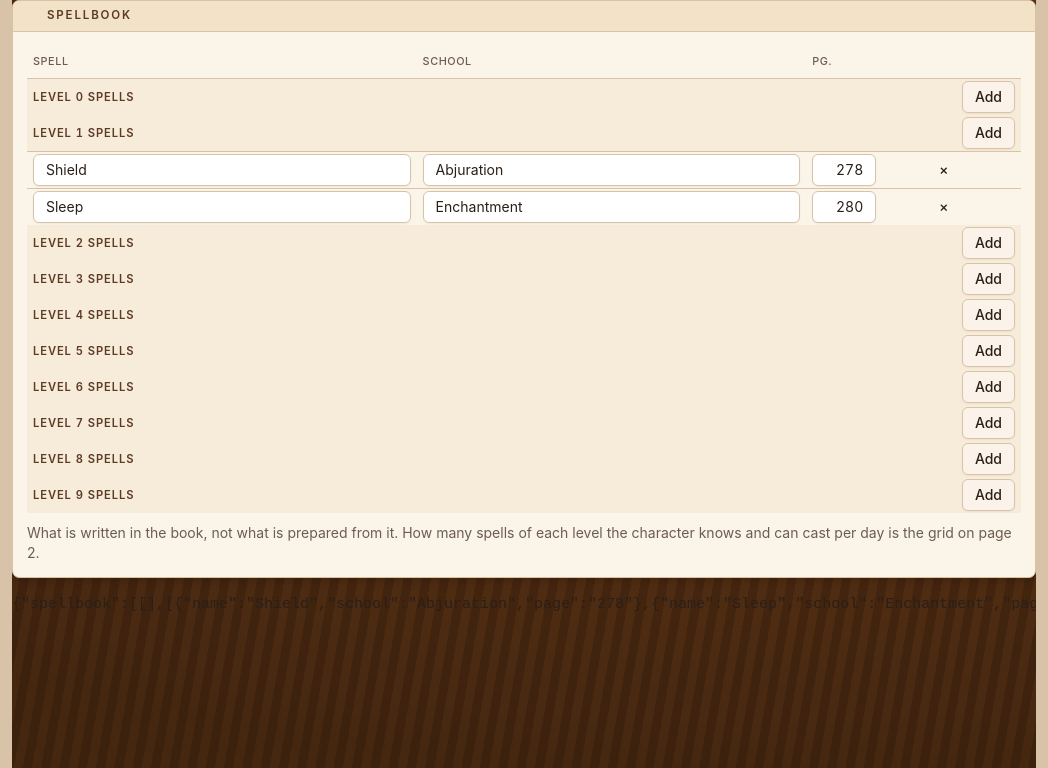
removing a spell › takes out the row it names and renumbers the rest
This screenshot has width=1048, height=768.
Expected: the field named "Level 1 spell 1 name" holds "Shield", [33,154,411,186]
Click the button named "Remove level 1 spell 1" at (944,170), box [928,154,960,186]
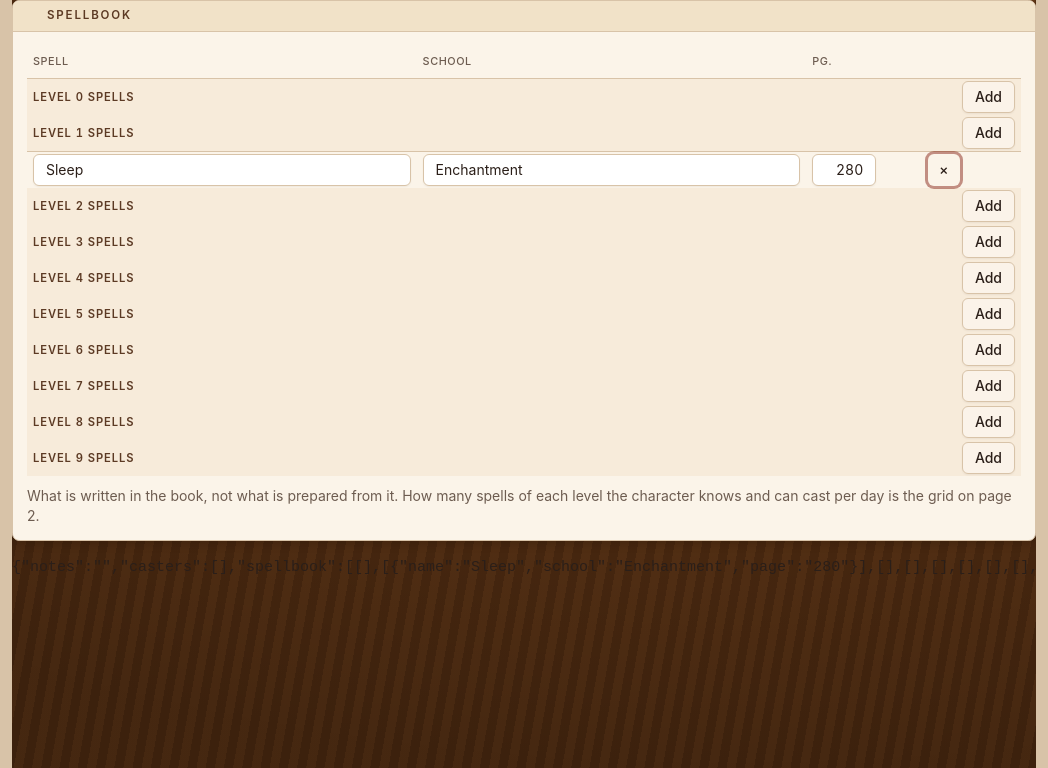
Expected: the field named "Level 1 spell 1 name" holds "Sleep", [33,154,411,186]
